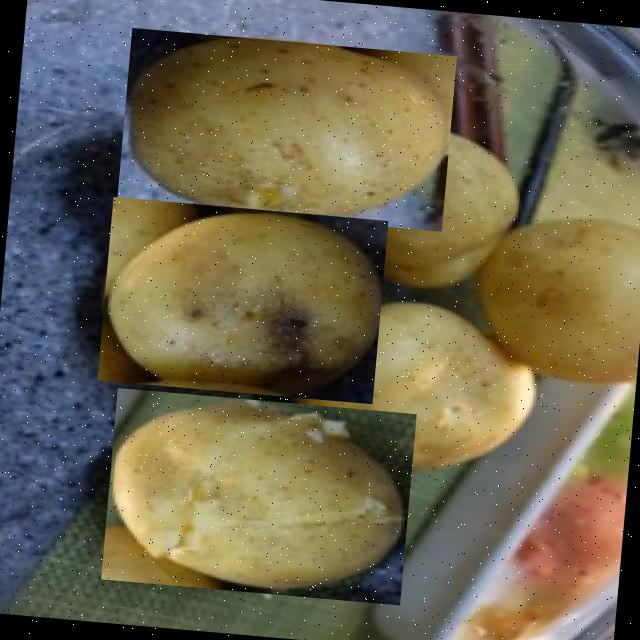Potato: (116, 27, 456, 230), (100, 387, 417, 604), (97, 195, 388, 402), (302, 286, 548, 483), (326, 116, 526, 295), (480, 204, 640, 390)
